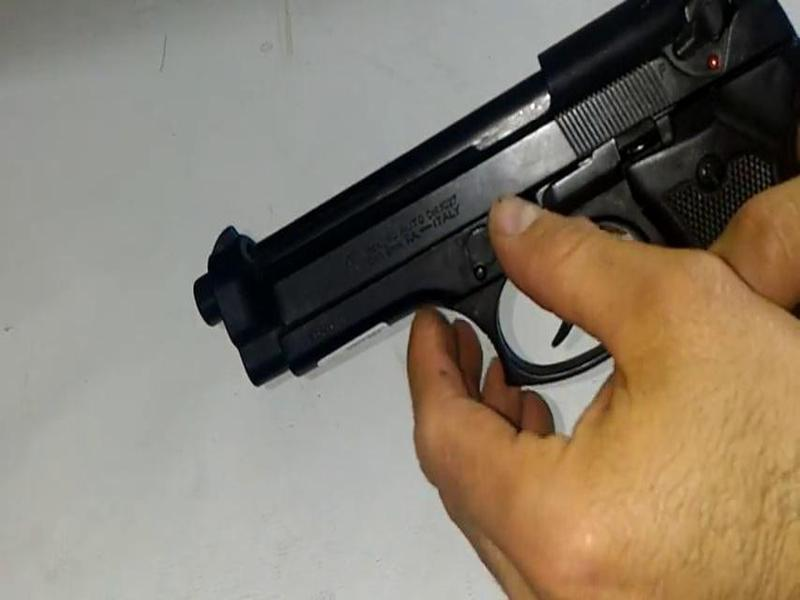Pistola: (167, 34, 800, 412)
